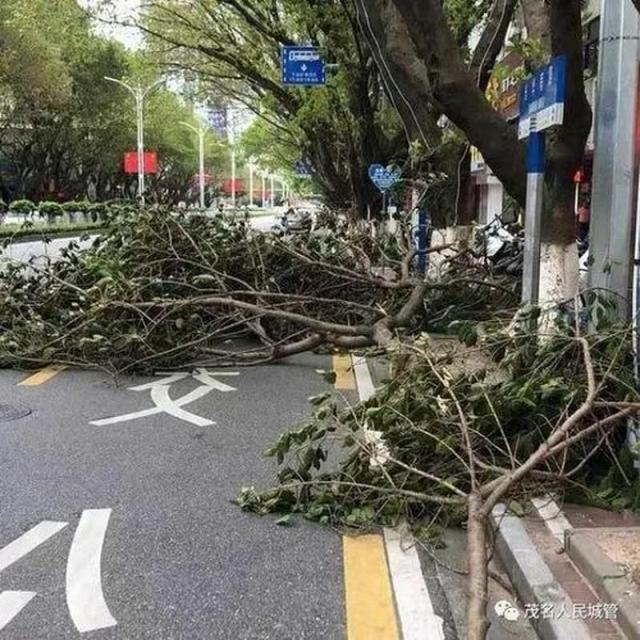tree_fallen: (58, 188, 366, 318), (401, 391, 495, 565), (557, 309, 640, 443), (380, 222, 481, 300)
